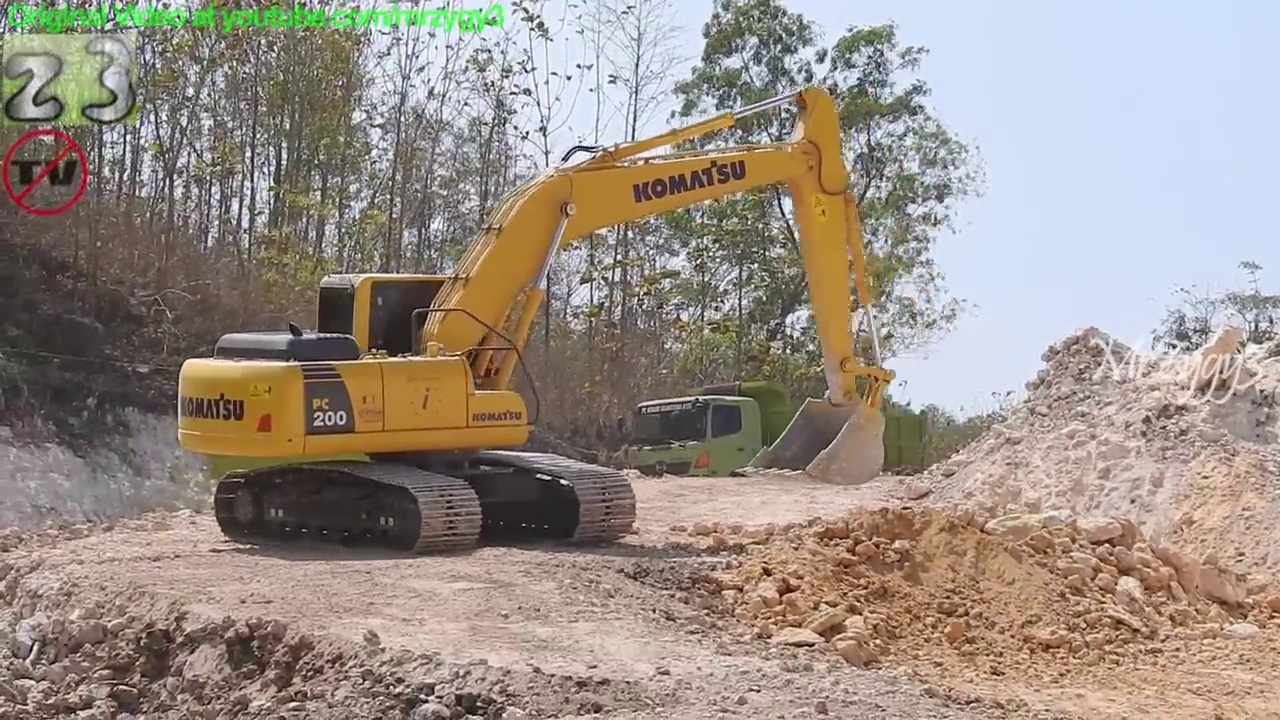excavator: (167, 78, 902, 562)
truck: (613, 375, 936, 509), (192, 388, 524, 517)
